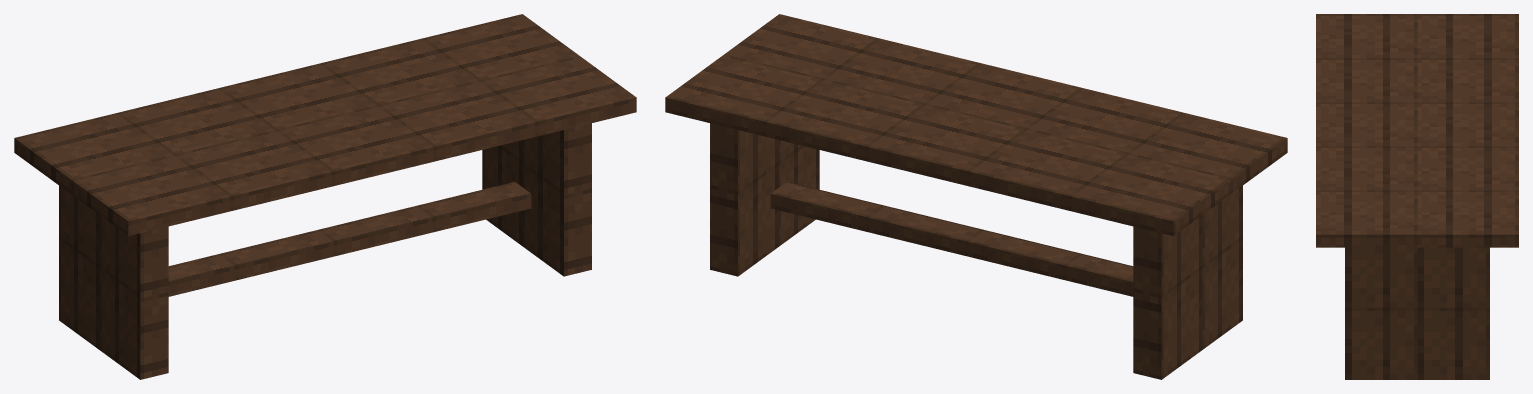
File: diningTable_3.glb
3 views of the same model, side by side, from view 1: azimuth 30°, elevation 25°; view 2: azimuth 150°, elevation 25°; view 3: azimuth 270°, elevation 25° (orthographic). The views are drawn at different scales.
Parts seen in each view (by area): view 1: diningTable_3; view 2: diningTable_3; view 3: diningTable_3.
Boxes of the visible parts, x1=… form: diningTable_3: x1=14, y1=14, x2=636, y2=379; diningTable_3: x1=665, y1=14, x2=1287, y2=379; diningTable_3: x1=1316, y1=14, x2=1518, y2=379.
Size of the model in its own units: 2.25 by 0.75 by 0.875.
Materials: 1 (1 with a texture image).
